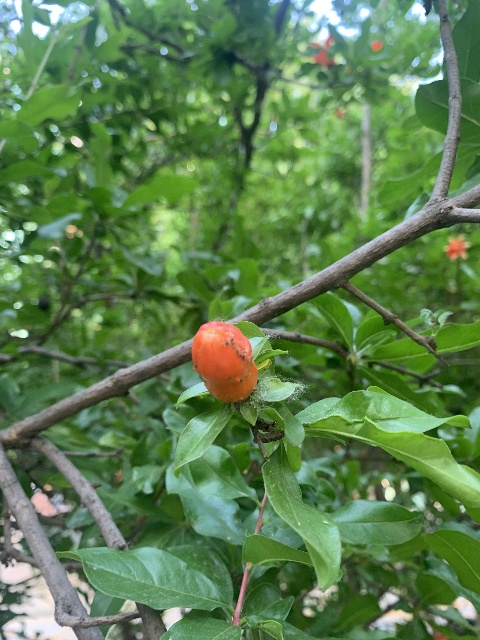bud: (191, 320, 256, 404)
flower: (442, 234, 472, 261)
